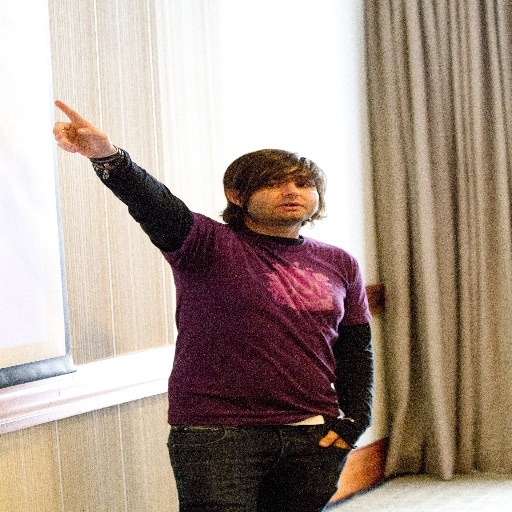hand: (41, 94, 120, 161), (316, 430, 350, 451)
